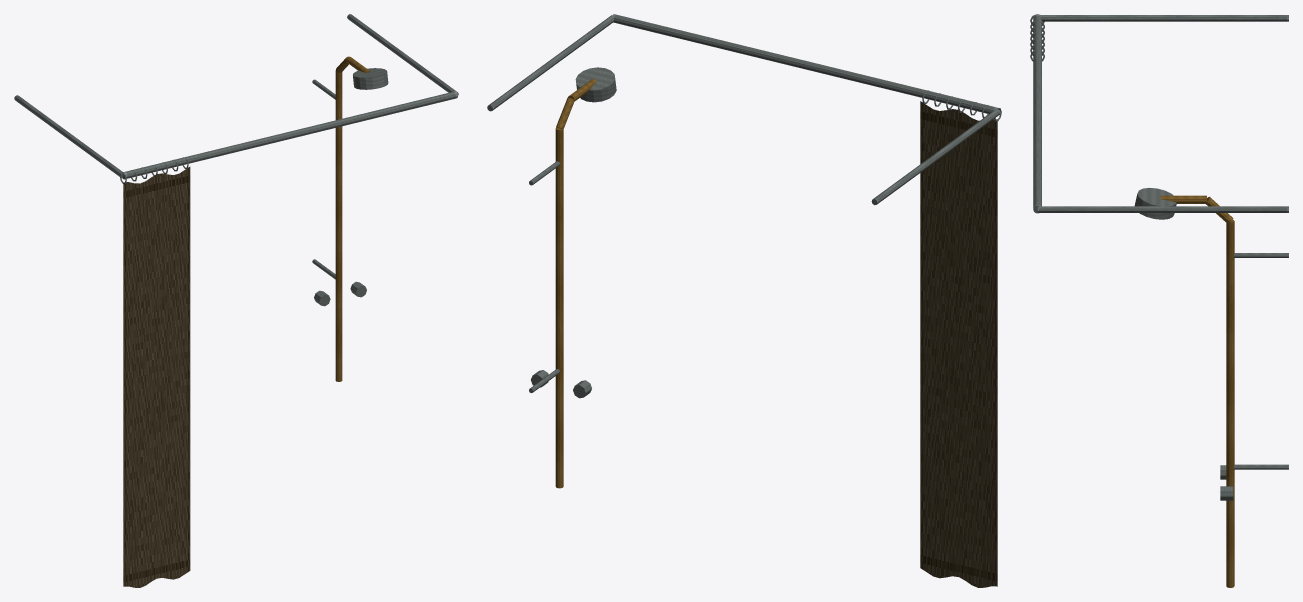
The model's file is level_bath_shower_rail.glb.
3 renders of one model, left to right at view 1: azimuth 30°, elevation 25°; view 2: azimuth 150°, elevation 25°; view 3: azimuth 270°, elevation 25°, orthographic. The views are drawn at different scales.
Parts seen in each view (by area): view 1: level_bath_shower_rail; view 2: level_bath_shower_rail; view 3: level_bath_shower_rail.
Boxes of the visible parts, box(x1,y1,x2,y2) form: level_bath_shower_rail: box(14, 14, 458, 587); level_bath_shower_rail: box(487, 14, 1001, 587); level_bath_shower_rail: box(1030, 14, 1288, 587).
Size of the model in its own units: 1.57 by 1.87 by 0.8856.
3 materials, 3 textured.
